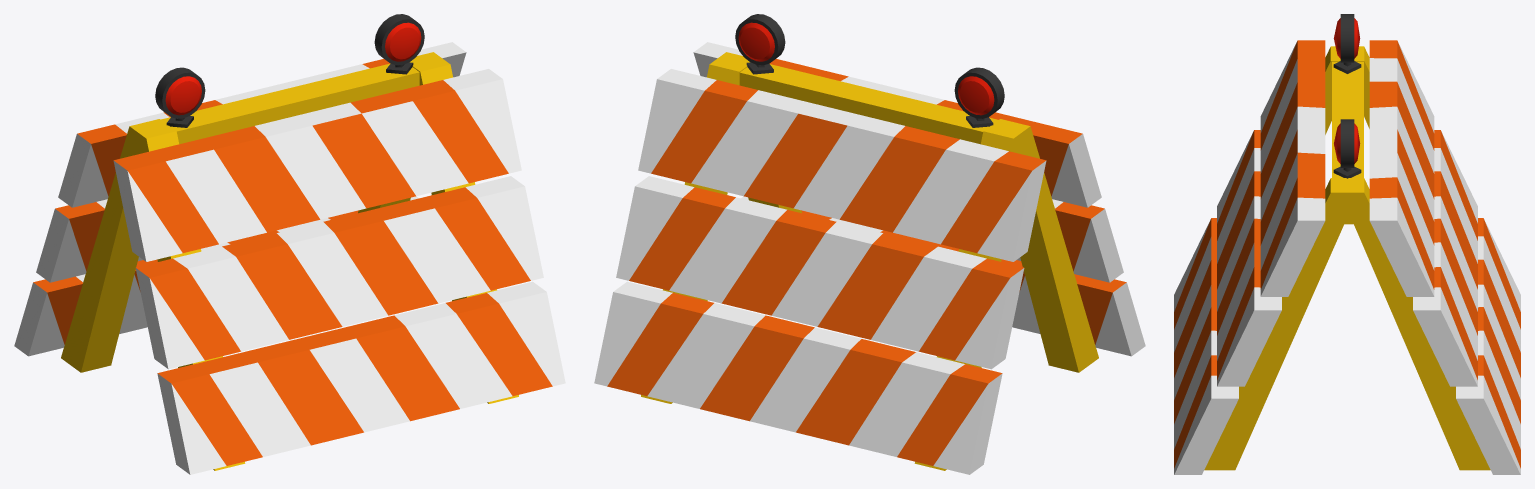
The model's file is Barrier.fbx.
3 renders of one model, left to right at view 1: azimuth 30°, elevation 25°; view 2: azimuth 150°, elevation 25°; view 3: azimuth 270°, elevation 25°, orthographic.
Visible parts, largest first — view 1: pCylinder2; view 2: pCylinder2; view 3: pCylinder2.
Boxes of the visible parts, bbox=[...] form: pCylinder2: bbox=[14, 14, 565, 474]; pCylinder2: bbox=[594, 14, 1145, 474]; pCylinder2: bbox=[1174, 14, 1520, 474].
Size of the model in its own units: 363 by 308 by 295.
